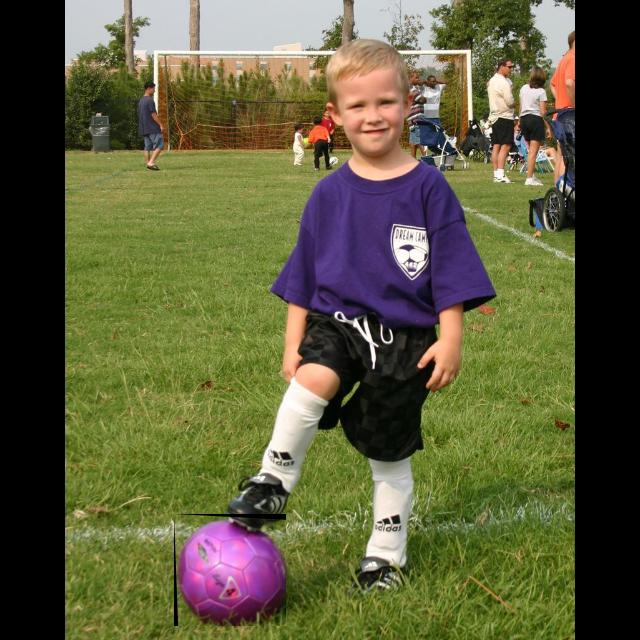Football: (174, 514, 286, 626)
